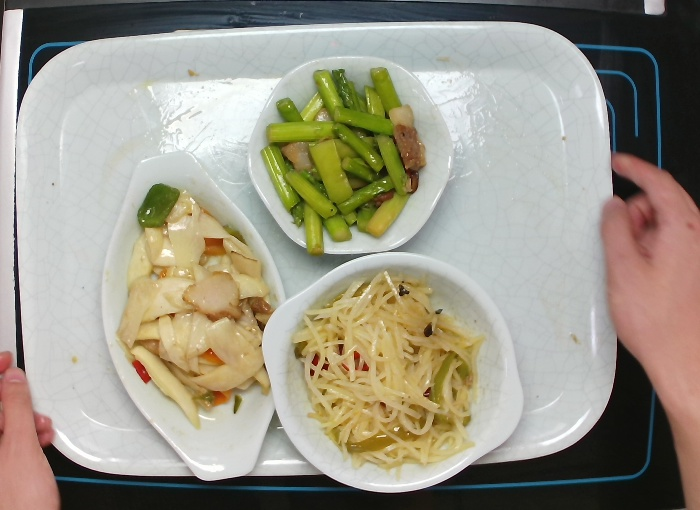JYsf-Shuang_Er_Wan: (260, 252, 522, 494)
JYsf-Yu_Pan: (99, 151, 291, 484)
WCQzf-Hua_Duo_Wan: (246, 56, 455, 256)
